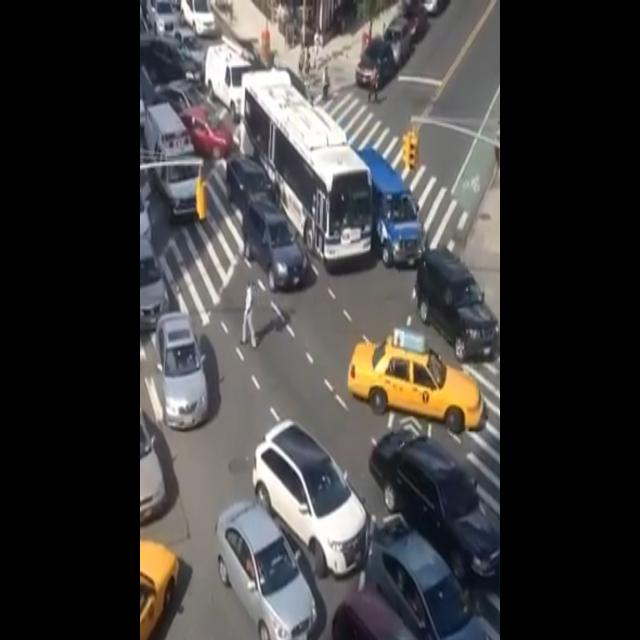Ambulance: (149, 97, 207, 224)
